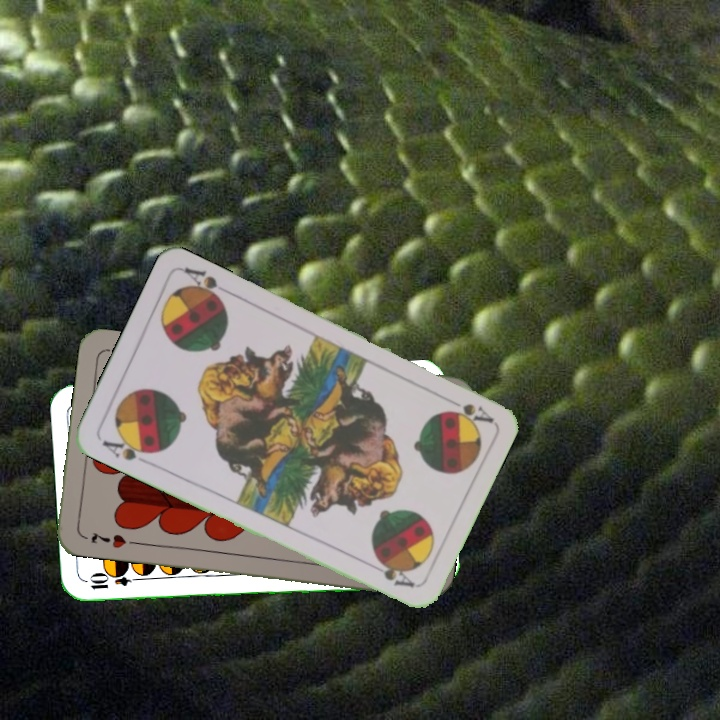E10: (86, 569, 144, 592)
H7: (87, 528, 129, 551)
SA: (97, 431, 157, 468), (439, 392, 495, 426)
